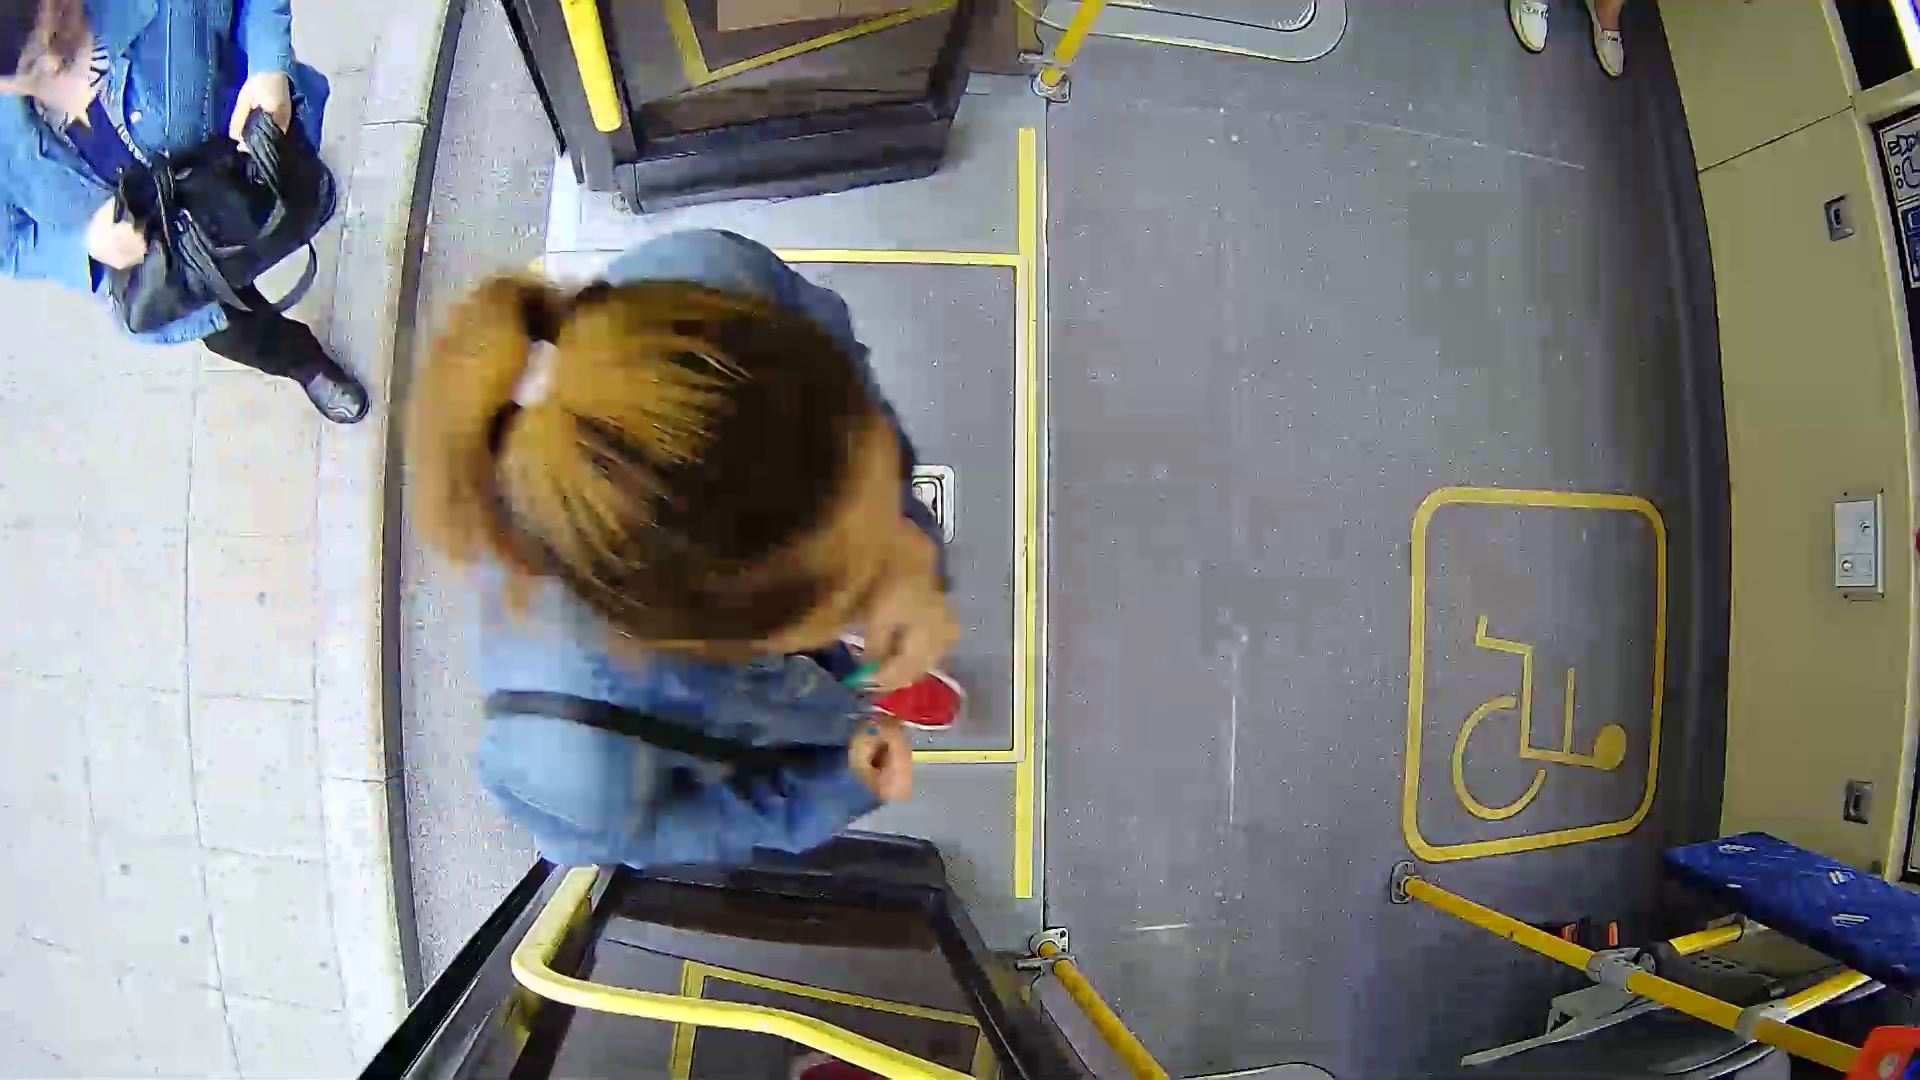person: (418, 205, 1068, 897)
